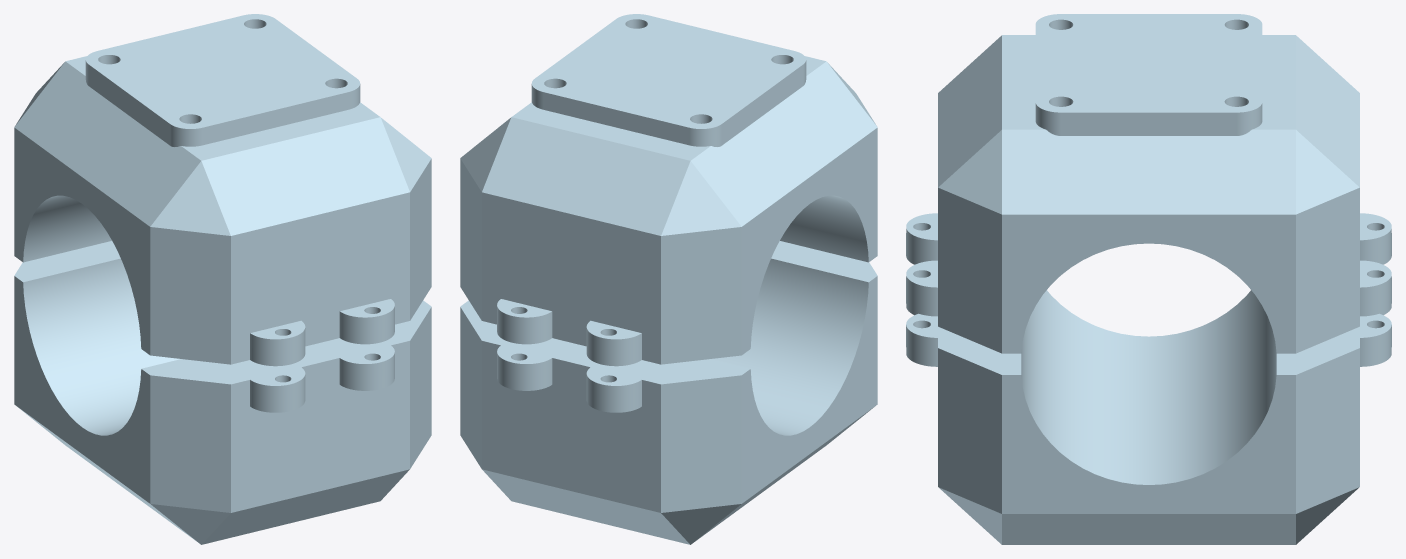
The model's file is LidarClamp.gltf.
The picture shows the model from 3 angles, left to right: view 1: azimuth 30°, elevation 25°; view 2: azimuth 150°, elevation 25°; view 3: azimuth 270°, elevation 25°; orthographic projection. The views are drawn at different scales.
Parts seen in each view (by area): view 1: Part 2 (×2); view 2: Part 2 (×2); view 3: Part 2 (×2).
Part boxes in pixels (x1,y1,x2,y2): Part 2 (×2): (14, 14, 431, 544); Part 2 (×2): (460, 14, 877, 544); Part 2 (×2): (906, 14, 1391, 544).
Size of the model in its own units: 0.055 by 0.075 by 0.076.
